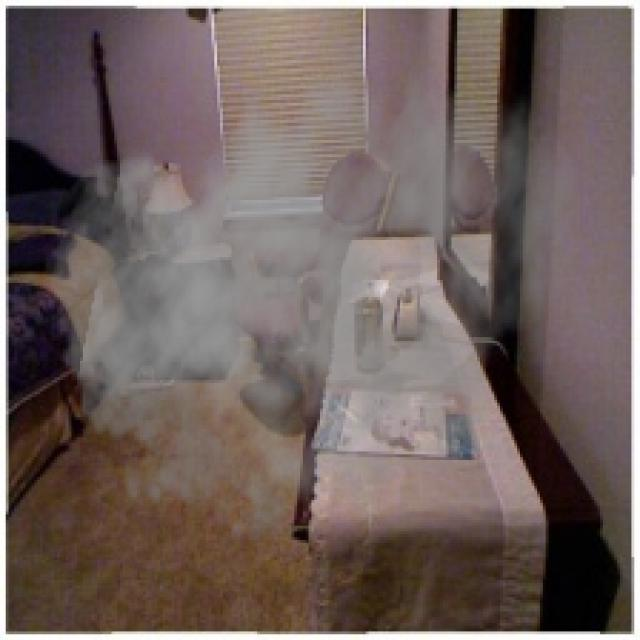smoke: (37, 17, 586, 566)
